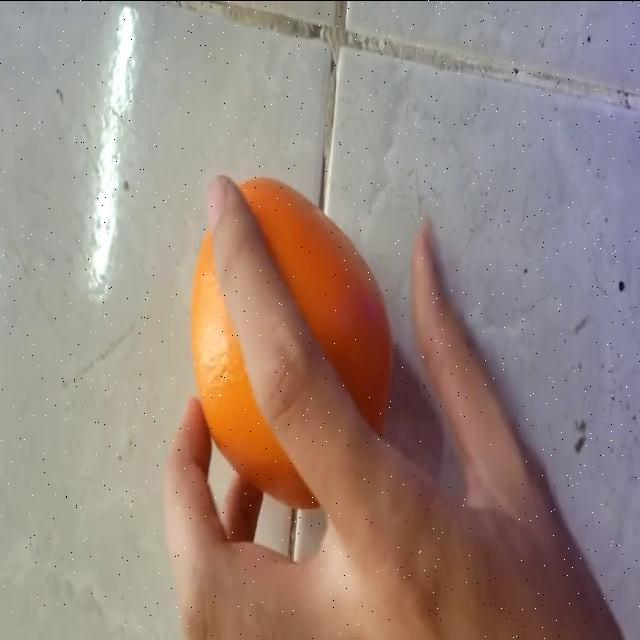Orange: (188, 176, 394, 510)
